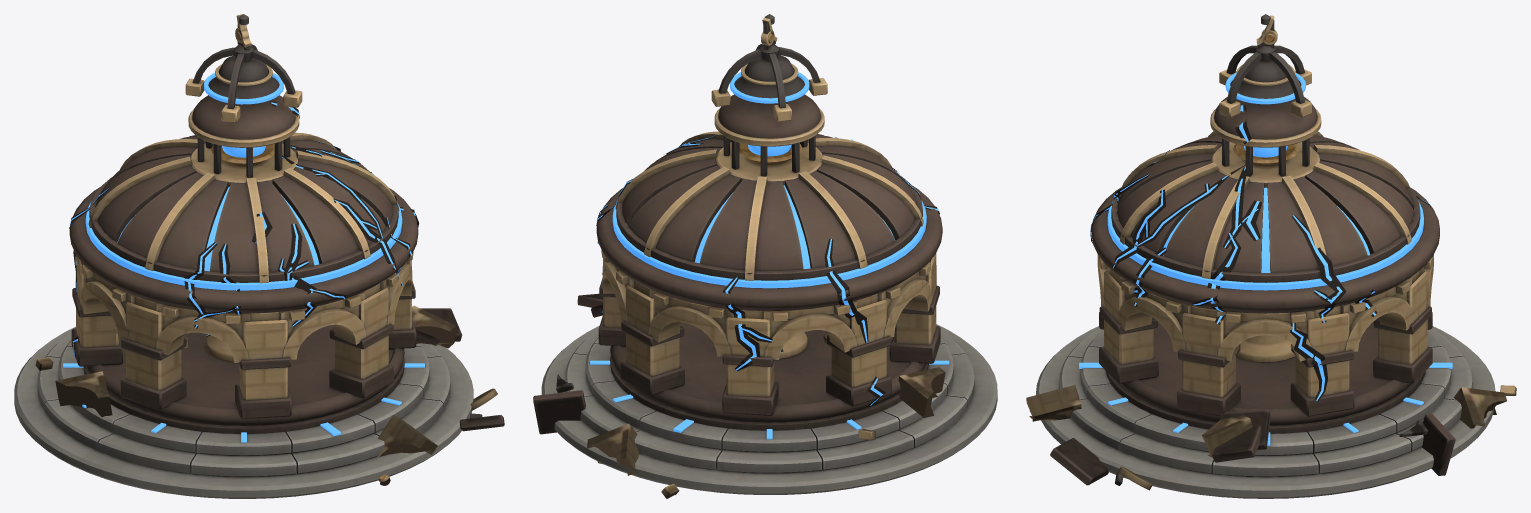
File: hourbell_serenade.glb
3 views of the same model, side by side, from view 1: azimuth 30°, elevation 25°; view 2: azimuth 150°, elevation 25°; view 3: azimuth 270°, elevation 25° (orthographic).
Visible parts, largest first — view 1: hourbell_serenade_upper, hourbell_serenade_base, hourbell_serenade_ruin, hourbell_serenade_glow.001, hourbell_serenade_dmg1, hourbell_serenade_dmg2, hourbell_serenade_chip2, hourbell_serenade_chip1, hourbell_serenade_glow_base; view 2: hourbell_serenade_upper, hourbell_serenade_base, hourbell_serenade_ruin, hourbell_serenade_glow.001, hourbell_serenade_dmg2, hourbell_serenade_chip2, hourbell_serenade_chip1, hourbell_serenade_glow_base; view 3: hourbell_serenade_upper, hourbell_serenade_base, hourbell_serenade_ruin, hourbell_serenade_dmg2, hourbell_serenade_glow.001, hourbell_serenade_dmg1, hourbell_serenade_chip1, hourbell_serenade_glow_base, hourbell_serenade_chip2.
Boxes of the visible parts, x1,y1,x2,y2 form: hourbell_serenade_upper: (69,28,418,433); hourbell_serenade_base: (14,326,473,498); hourbell_serenade_ruin: (35,305,504,485); hourbell_serenade_glow.001: (85,72,402,290); hourbell_serenade_dmg1: (184,145,383,328); hourbell_serenade_dmg2: (69,101,418,368); hourbell_serenade_chip2: (81,104,398,324); hourbell_serenade_chip1: (162,14,253,317); hourbell_serenade_glow_base: (63,363,424,442); hourbell_serenade_upper: (596,31,942,430); hourbell_serenade_base: (541,324,997,494); hourbell_serenade_ruin: (533,293,945,498); hourbell_serenade_glow.001: (612,72,926,288); hourbell_serenade_dmg2: (596,139,885,405); hourbell_serenade_chip2: (709,78,900,318); hourbell_serenade_chip1: (711,14,787,321); hourbell_serenade_glow_base: (590,360,949,439); hourbell_serenade_upper: (1091,29,1439,433); hourbell_serenade_base: (1036,326,1495,498); hourbell_serenade_ruin: (1026,328,1516,490); hourbell_serenade_dmg2: (1112,105,1430,401); hourbell_serenade_glow.001: (1107,72,1423,290); hourbell_serenade_dmg1: (1090,150,1258,248); hourbell_serenade_chip1: (1256,14,1311,323); hourbell_serenade_glow_base: (1079,362,1452,445); hourbell_serenade_chip2: (1121,69,1285,294).
Size of the model in its own units: 5.67 by 5.33 by 6.03.
4 materials, 1 textured.
